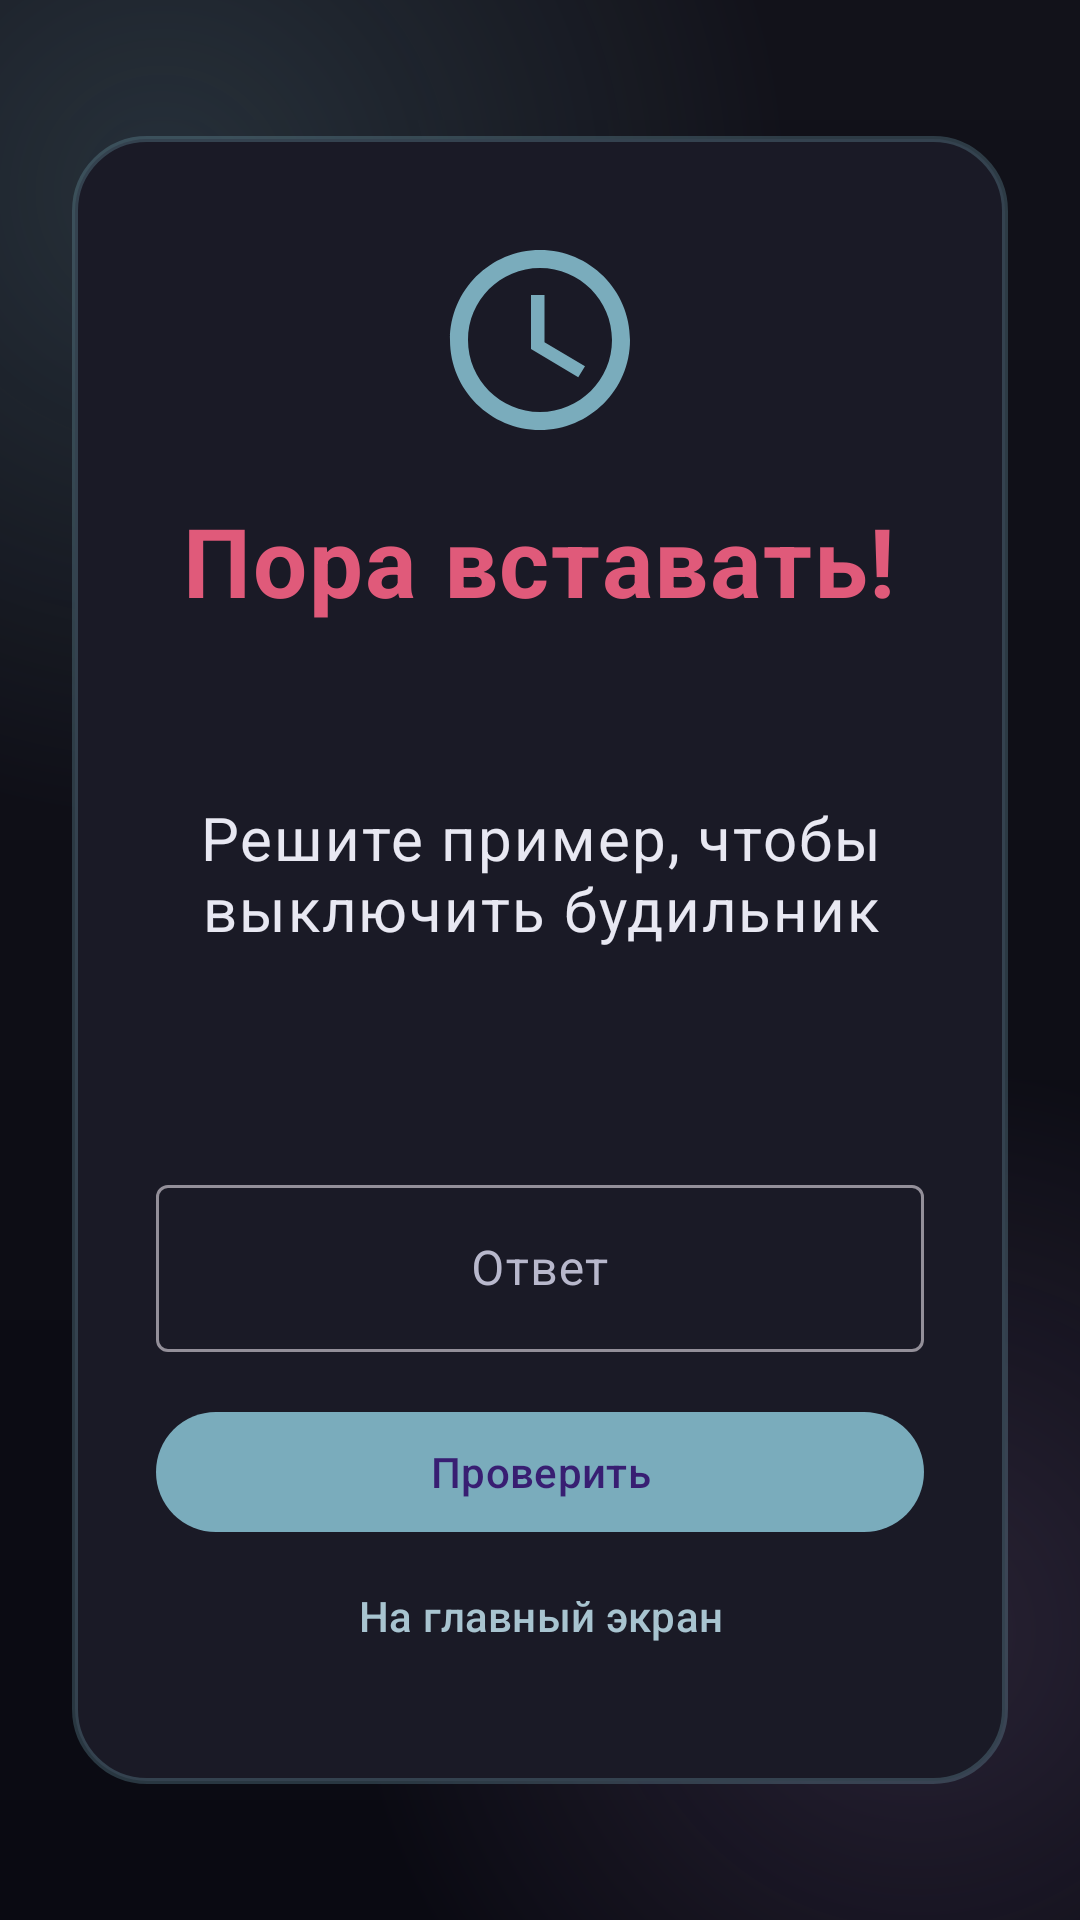

Screen size 1080px×1920px. Icon name, then its box in pixels as (left=x1, top=y1, right=x2, bottom=y2):
feature alarm: (left=450, top=250, right=630, bottom=430)
